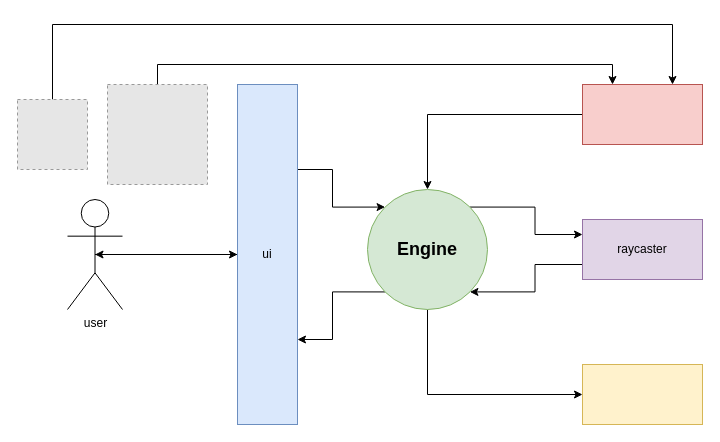
Some shapes in this 720 by 442 pixel diagram are drawn without their labels. Grey dashed boxes stand in for pictures. Here are the shapes that lost their labels. From the top down, the centre of each, then its label:
[642,114]: controls
[642,394]: viewer
